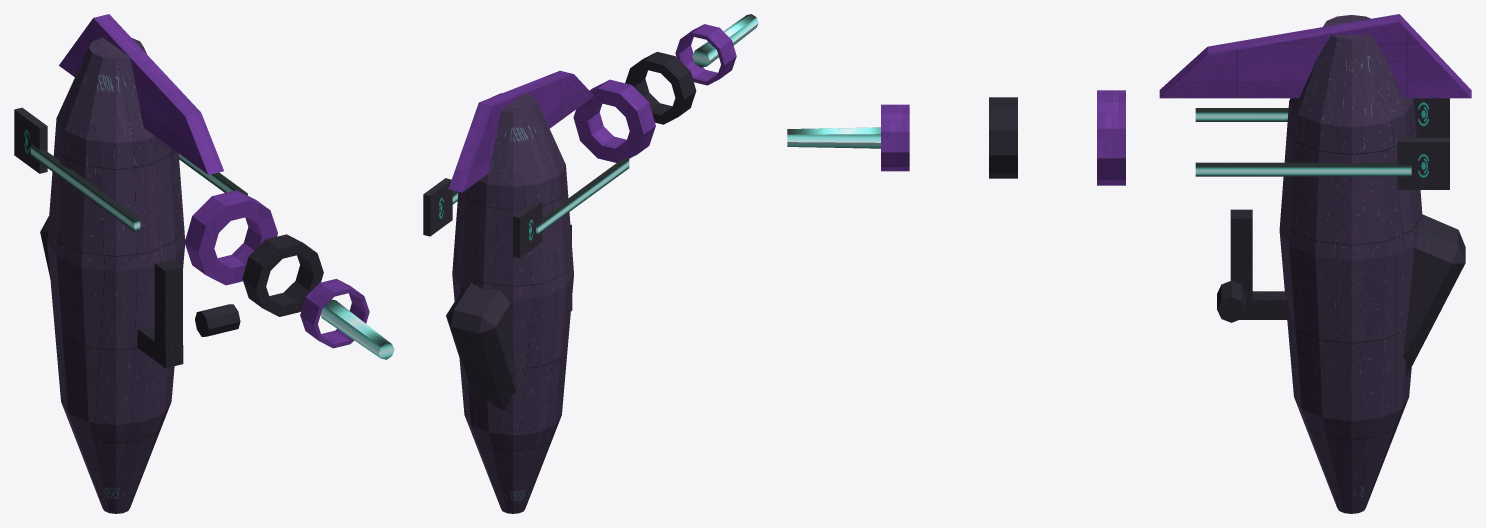
File: hlx_pistol.obj
The picture shows the model from 3 angles, left to right: view 1: azimuth 30°, elevation 25°; view 2: azimuth 150°, elevation 25°; view 3: azimuth 270°, elevation 25°; orthographic projection. The views are drawn at different scales.
Parts seen in each view (by area): view 1: hlx_pistol; view 2: hlx_pistol; view 3: hlx_pistol.
Boxes of the visible parts, bbox=[...] form: hlx_pistol: bbox=[14, 14, 394, 513]; hlx_pistol: bbox=[423, 14, 758, 513]; hlx_pistol: bbox=[787, 14, 1471, 513].
Bounding box in the file's own units: 0.06 × 0.227 × 0.285.
Materials: 1 (1 with a texture image).
